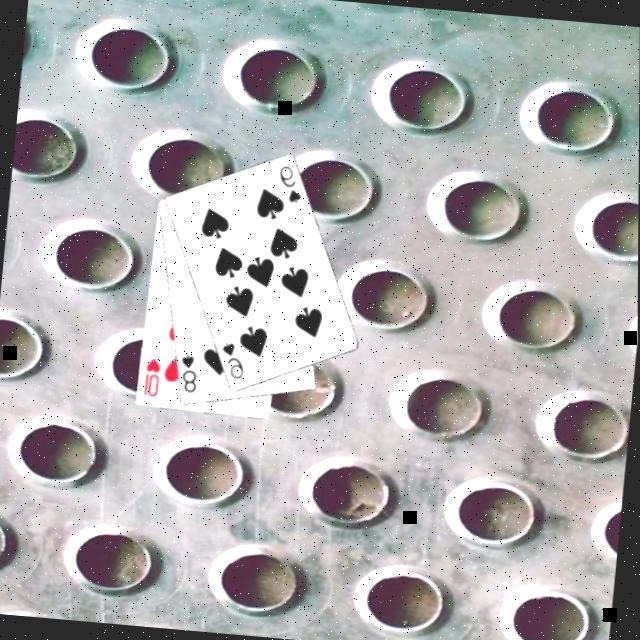10H: (138, 352, 162, 399)
8S: (173, 349, 201, 395)
9S: (214, 337, 248, 381), (271, 162, 305, 206)
